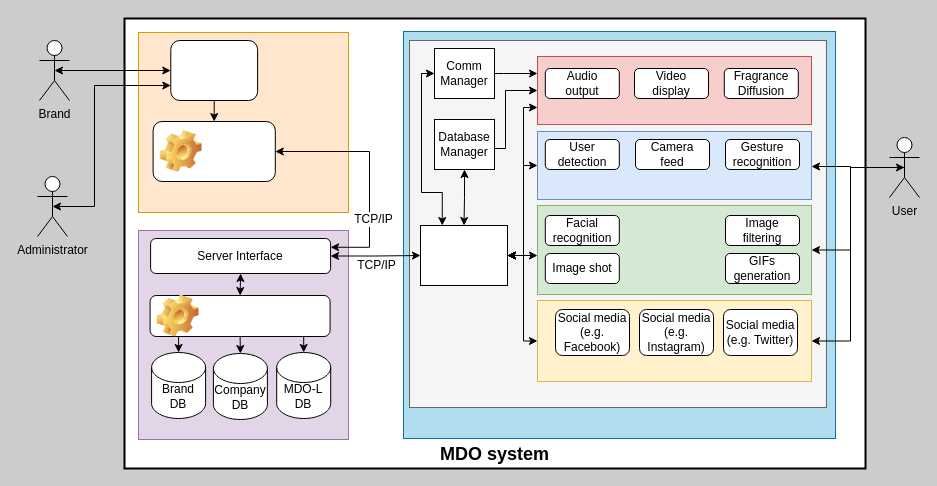
Some shapes in this 937 by 486 pixel diagram are drawn without their labels. The box of each missing label's shape, as (x1, y1, x2, y2) in pixels:
Application: (408, 40, 826, 408)
Data Logic (Back-end): (152, 120, 275, 182)
Database Logic: (149, 294, 330, 336)
Interaction mode (User UI): (536, 130, 812, 200)
Local system (MDO-L): (402, 30, 836, 438)
Multimedia mode: (536, 204, 812, 294)
Normal mode: (536, 56, 812, 124)
Remote Client (MDO-RC): (138, 32, 348, 212)
Remote server (MDO-RS): (138, 230, 348, 440)
Sharing mode: (536, 300, 812, 382)
Supervisor (app interface): (420, 224, 508, 286)
UI (Front-end): (170, 40, 258, 100)
